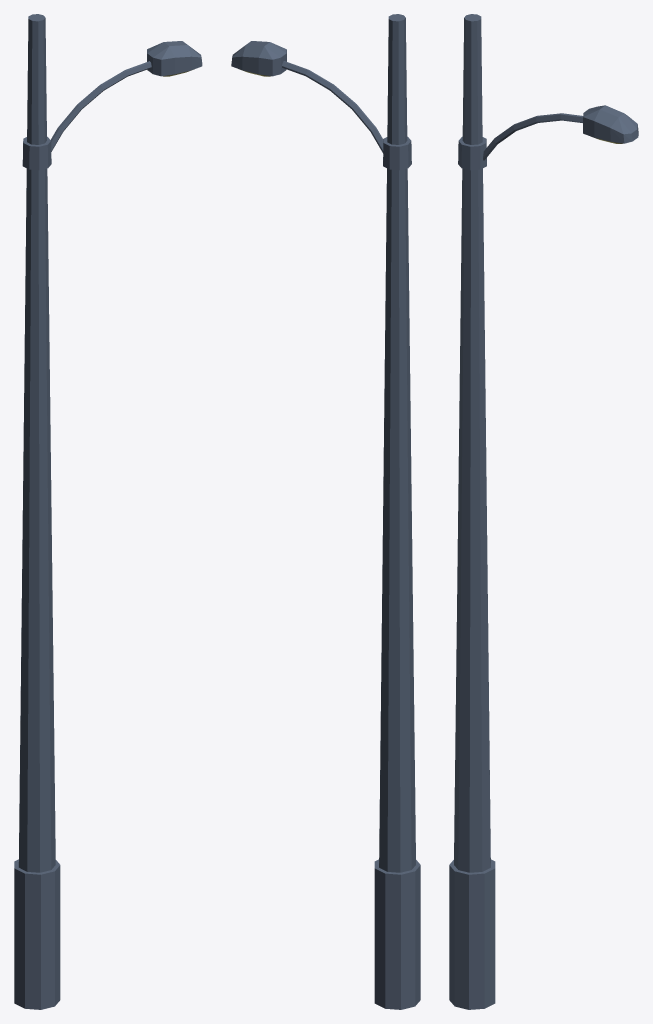
The model's file is Streetlight.fbx.
3 views of the same model, side by side, from view 1: azimuth 30°, elevation 25°; view 2: azimuth 150°, elevation 25°; view 3: azimuth 330°, elevation 25° (orthographic).
Parts seen in each view (by area): view 1: lightpost; view 2: lightpost; view 3: lightpost.
Part boxes in pixels (x1,y1,x2,y2): lightpost: [14, 14, 202, 1009]; lightpost: [231, 14, 420, 1009]; lightpost: [449, 14, 638, 1009].
Size of the model in its own units: 141 by 727 by 30.79.
